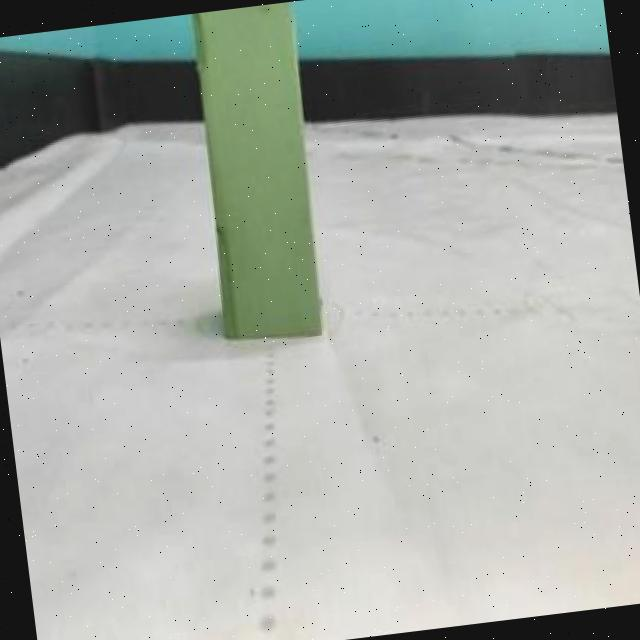greenbox: (186, 1, 336, 350)
